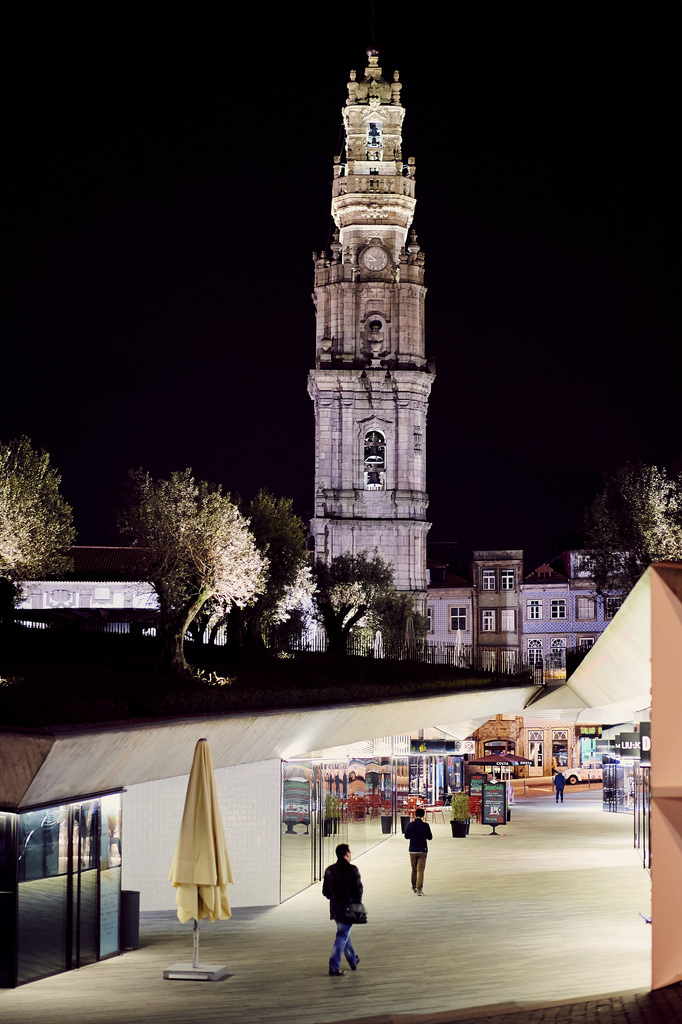clerigos: (307, 43, 434, 659)
